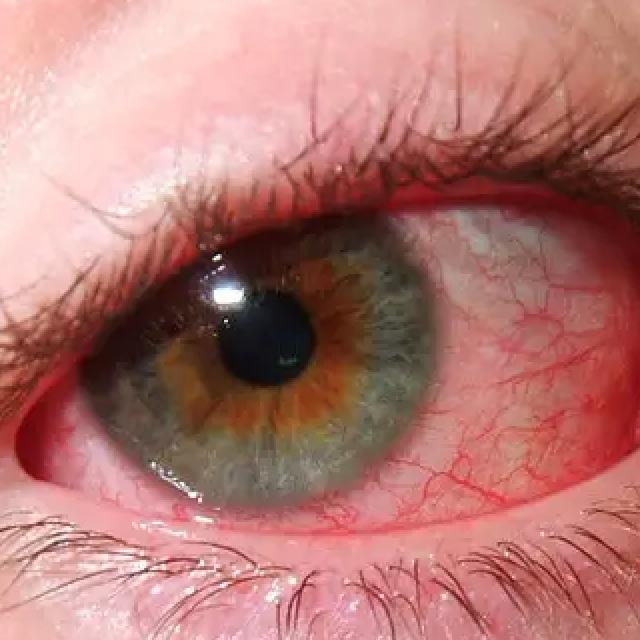eye: (25, 198, 640, 539)
iris: (77, 213, 438, 521)
